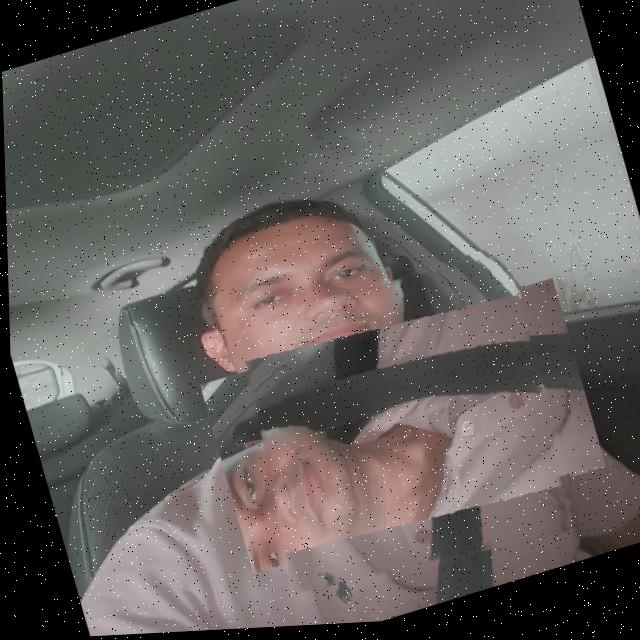seatbelt: (218, 245, 579, 611)
